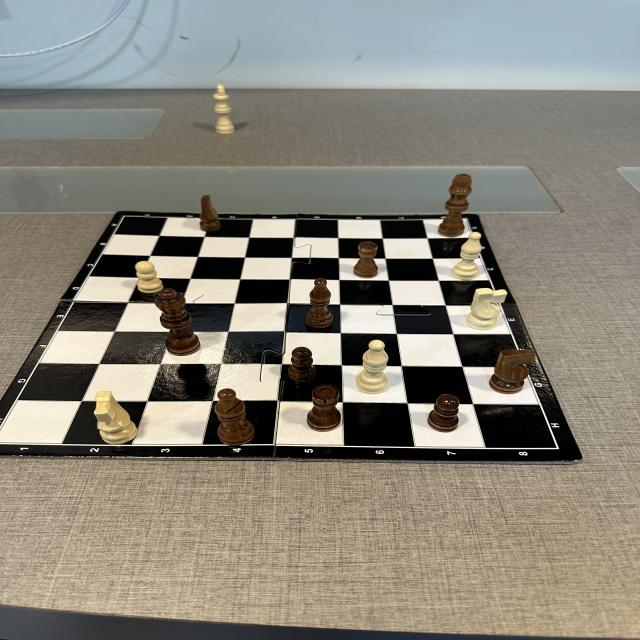Black-Bishop: (214, 388, 256, 446), (306, 278, 334, 328)
Black-King: (437, 174, 473, 237)
Black-Knight: (489, 348, 536, 394), (199, 195, 222, 232)
Black-Pawn: (427, 394, 460, 433), (288, 347, 316, 382)
Black-Queen: (154, 288, 201, 356)
Black-Rook: (306, 384, 341, 432), (352, 241, 378, 278)
White-Bishop: (356, 340, 388, 394), (451, 232, 482, 280)
White-King: (212, 84, 235, 135)
White-Knight: (94, 390, 138, 444), (466, 288, 508, 330)
White-Pawn: (135, 260, 163, 294)
